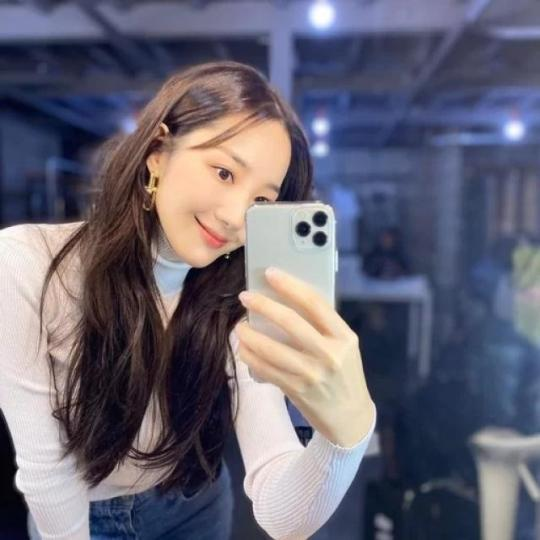phone: (239, 201, 343, 386)
